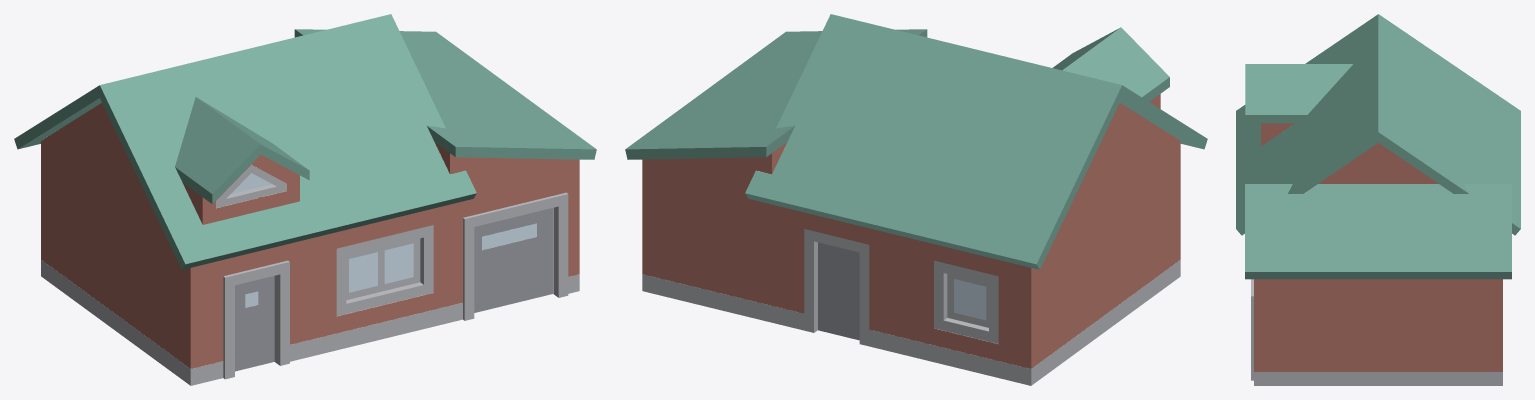
Rendered from house.gltf.
The picture shows the model from 3 angles, left to right: view 1: azimuth 30°, elevation 25°; view 2: azimuth 150°, elevation 25°; view 3: azimuth 270°, elevation 25°; orthographic projection. The views are drawn at different scales.
Parts seen in each view (by area): view 1: house_type04; view 2: house_type04; view 3: house_type04.
Boxes of the visible parts, bbox=[...] form: house_type04: bbox=[14, 14, 596, 385]; house_type04: bbox=[625, 14, 1207, 385]; house_type04: bbox=[1236, 14, 1520, 385].
Bounding box in the file's own units: 1.29 × 0.7376 × 0.9162.
